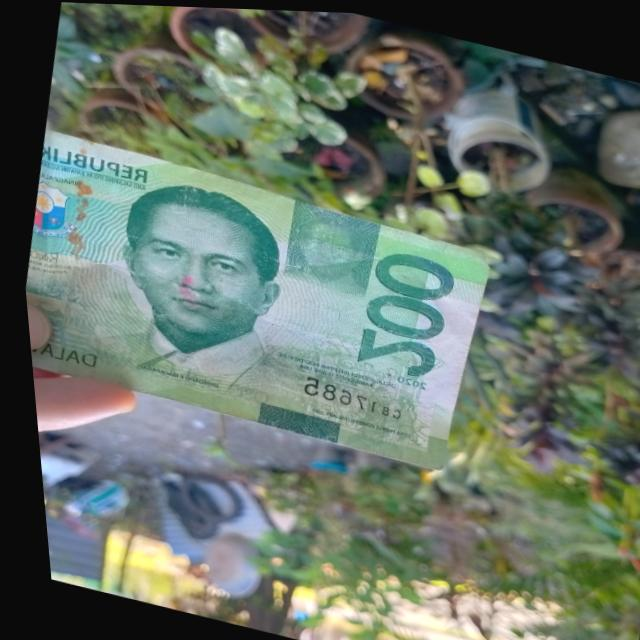concealed_value: (271, 194, 385, 293)
serial_number: (292, 367, 399, 422)
value: (333, 231, 472, 390)
